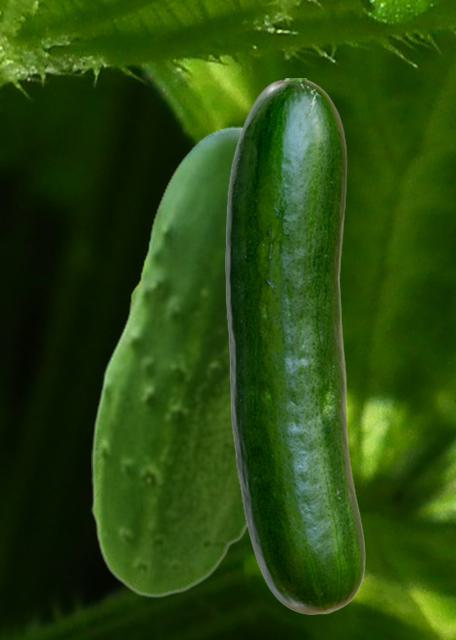cucumber: (225, 78, 364, 613), (91, 126, 248, 597)
